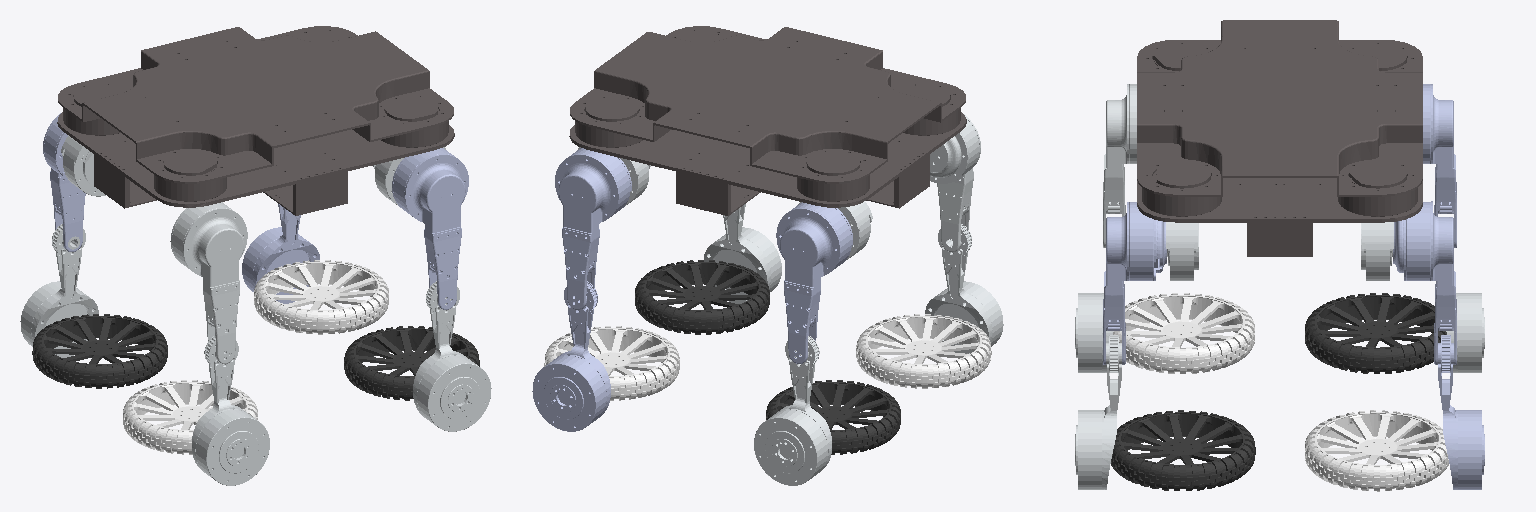
robot.urdf — leggedWheel_urdf_v2:
<?xml version="1.0" encoding="utf-8"?>
<!-- This URDF was automatically created by SolidWorks to URDF Exporter! Originally created by Stephen Brawner ([email redacted]) 
     Commit Version: 1.6.0-4-g7f85cfe  Build Version: 1.6.7995.38578
     For more information, please see http://wiki.ros.org/sw_urdf_exporter -->
<robot
  name="leggedWheel_urdf_v2">
  <link
    name="base_link">
    <inertial>
      <origin
        xyz="-0.00687441750629358 0.00016840998628298 0.0396430373516859"
        rpy="0 0 0" />
      <mass
        value="6.93631041360623" />
      <inertia
        ixx="0.0336459138280558"
        ixy="-8.7953687962115E-07"
        ixz="1.40887605515341E-06"
        iyy="0.054209835778547"
        iyz="-1.8869649634849E-06"
        izz="0.0868280053141142" />
    </inertial>
    <visual>
      <origin
        xyz="0 0 0"
        rpy="0 0 0" />
      <geometry>
        <mesh
          filename="package://leggedWheel_urdf_v2/meshes/base_link.STL" />
      </geometry>
      <material
        name="">
        <color
          rgba="0.43921568627451 0.411764705882353 0.411764705882353 1" />
      </material>
    </visual>
    <collision>
      <origin
        xyz="0 0 0"
        rpy="0 0 0" />
      <geometry>
        <mesh
          filename="package://leggedWheel_urdf_v2/meshes/base_link.STL" />
      </geometry>
    </collision>
  </link>
  <link
    name="left_front_abad">
    <inertial>
      <origin
        xyz="3.96909066446849E-05 -0.000913510036137183 0.0141455115549921"
        rpy="0 0 0" />
      <mass
        value="0.364781129600683" />
      <inertia
        ixx="0.000214071586798384"
        ixy="2.33639275270931E-07"
        ixz="-3.02901820553949E-07"
        iyy="0.000372454562010097"
        iyz="-2.19156777432853E-07"
        izz="0.000262021229869407" />
    </inertial>
    <visual>
      <origin
        xyz="0 0 0"
        rpy="0 0 0" />
      <geometry>
        <mesh
          filename="package://leggedWheel_urdf_v2/meshes/left_front_abad.STL" />
      </geometry>
      <material
        name="">
        <color
          rgba="0.898039215686275 0.917647058823529 0.929411764705882 1" />
      </material>
    </visual>
    <collision>
      <origin
        xyz="0 0 0"
        rpy="0 0 0" />
      <geometry>
        <mesh
          filename="package://leggedWheel_urdf_v2/meshes/left_front_abad.STL" />
      </geometry>
    </collision>
  </link>
  <joint
    name="left_front_abad"
    type="revolute">
    <origin
      xyz="0.169999999999999 0.120000000000005 -0.0510000000000034"
      rpy="0 0 0" />
    <parent
      link="base_link" />
    <child
      link="left_front_abad" />
    <axis
      xyz="0 0 1" />
    <limit
      lower="-3.14"
      upper="3.14"
      effort="10"
      velocity="275" />
  </joint>
  <link
    name="left_front_hip">
    <inertial>
      <origin
        xyz="0.000257190709675226 0.058783752059471 -0.0187965428097329"
        rpy="0 0 0" />
      <mass
        value="0.58601696675297" />
      <inertia
        ixx="0.000416527877754753"
        ixy="-3.62595971993563E-07"
        ixz="2.33666319471906E-06"
        iyy="0.000634287646205887"
        iyz="8.88036094220621E-06"
        izz="0.000299341608899424" />
    </inertial>
    <visual>
      <origin
        xyz="0 0 0"
        rpy="0 0 0" />
      <geometry>
        <mesh
          filename="package://leggedWheel_urdf_v2/meshes/left_front_hip.STL" />
      </geometry>
      <material
        name="">
        <color
          rgba="0.792156862745098 0.819607843137255 0.933333333333333 1" />
      </material>
    </visual>
    <collision>
      <origin
        xyz="0 0 0"
        rpy="0 0 0" />
      <geometry>
        <mesh
          filename="package://leggedWheel_urdf_v2/meshes/left_front_hip.STL" />
      </geometry>
    </collision>
  </link>
  <joint
    name="left_front_hip"
    type="revolute">
    <origin
      xyz="0 0 0"
      rpy="0 0 0" />
    <parent
      link="left_front_abad" />
    <child
      link="left_front_hip" />
    <axis
      xyz="0 1 0" />
    <limit
      lower="-3.14"
      upper="3.14"
      effort="10"
      velocity="275" />
  </joint>
  <link
    name="left_front_knee">
    <inertial>
      <origin
        xyz="7.76403467184217E-07 0.101384054323778 -0.105775251077242"
        rpy="0 0 0" />
      <mass
        value="0.441651824159081" />
      <inertia
        ixx="0.000398866453379467"
        ixy="1.00806584895321E-08"
        ixz="-1.08489290087052E-08"
        iyy="0.000612887101614769"
        iyz="2.01368193265162E-05"
        izz="0.000274530065386405" />
    </inertial>
    <visual>
      <origin
        xyz="0 0 0"
        rpy="0 0 0" />
      <geometry>
        <mesh
          filename="package://leggedWheel_urdf_v2/meshes/left_front_knee.STL" />
      </geometry>
      <material
        name="">
        <color
          rgba="0.792156862745098 0.819607843137255 0.933333333333333 1" />
      </material>
    </visual>
    <collision>
      <origin
        xyz="0 0 0"
        rpy="0 0 0" />
      <geometry>
        <mesh
          filename="package://leggedWheel_urdf_v2/meshes/left_front_knee.STL" />
      </geometry>
    </collision>
  </link>
  <joint
    name="left_front_knee"
    type="revolute">
    <origin
      xyz="0 0 -0.152"
      rpy="0 0 0" />
    <parent
      link="left_front_hip" />
    <child
      link="left_front_knee" />
    <axis
      xyz="0 1 0" />
    <limit
      lower="-3.14"
      upper="3.14"
      effort="10"
      velocity="275" />
  </joint>
  <link
    name="left_front_wheel">
    <inertial>
      <origin
        xyz="-3.30023919303812E-09 0.151096488682378 -2.85931647803217E-09"
        rpy="0 0 0" />
      <mass
        value="1.05505860671373" />
      <inertia
        ixx="0.00281347246586849"
        ixy="7.07747315785934E-11"
        ixz="5.90686008706454E-11"
        iyy="0.0050229074402748"
        iyz="-5.0044392124206E-11"
        izz="0.00281347246843757" />
    </inertial>
    <visual>
      <origin
        xyz="0 0 0"
        rpy="0 0 0" />
      <geometry>
        <mesh
          filename="package://leggedWheel_urdf_v2/meshes/left_front_wheel.STL" />
      </geometry>
      <material
        name="">
        <color
          rgba="1 1 1 1" />
      </material>
    </visual>
    <collision>
      <origin
        xyz="0 0 0"
        rpy="0 0 0" />
      <geometry>
        <mesh
          filename="package://leggedWheel_urdf_v2/meshes/left_front_wheel.STL" />
      </geometry>
    </collision>
  </link>
  <joint
    name="left_front_wheel"
    type="continuous">
    <origin
      xyz="0 0 -0.13"
      rpy="0 0 0" />
    <parent
      link="left_front_knee" />
    <child
      link="left_front_wheel" />
    <axis
      xyz="0 1 0" />
    <limit
      effort="10"
      velocity="400" />
  </joint>
  <link
    name="left_back_abad">
    <inertial>
      <origin
        xyz="3.96909066445184E-05 -0.000913510036137211 0.0141455115549919"
        rpy="0 0 0" />
      <mass
        value="0.364781129600681" />
      <inertia
        ixx="0.000214071586798384"
        ixy="2.33639275270672E-07"
        ixz="-3.0290182055397E-07"
        iyy="0.000372454562010097"
        iyz="-2.19156777432599E-07"
        izz="0.000262021229869406" />
    </inertial>
    <visual>
      <origin
        xyz="0 0 0"
        rpy="0 0 0" />
      <geometry>
        <mesh
          filename="package://leggedWheel_urdf_v2/meshes/left_back_abad.STL" />
      </geometry>
      <material
        name="">
        <color
          rgba="0.898039215686275 0.917647058823529 0.929411764705882 1" />
      </material>
    </visual>
    <collision>
      <origin
        xyz="0 0 0"
        rpy="0 0 0" />
      <geometry>
        <mesh
          filename="package://leggedWheel_urdf_v2/meshes/left_back_abad.STL" />
      </geometry>
    </collision>
  </link>
  <joint
    name="left_back_abad"
    type="revolute">
    <origin
      xyz="-0.17 0.12 -0.051"
      rpy="0 0 0" />
    <parent
      link="base_link" />
    <child
      link="left_back_abad" />
    <axis
      xyz="0 0 1" />
    <limit
      lower="-3.14"
      upper="3.14"
      effort="10"
      velocity="275" />
  </joint>
  <link
    name="left_back_hip">
    <inertial>
      <origin
        xyz="0.000257190709675503 0.0587837520594711 -0.018796542809733"
        rpy="0 0 0" />
      <mass
        value="0.586016966752973" />
      <inertia
        ixx="0.000416527877754754"
        ixy="-3.62595971993404E-07"
        ixz="2.33666319472172E-06"
        iyy="0.000634287646205885"
        iyz="8.88036094220618E-06"
        izz="0.000299341608899422" />
    </inertial>
    <visual>
      <origin
        xyz="0 0 0"
        rpy="0 0 0" />
      <geometry>
        <mesh
          filename="package://leggedWheel_urdf_v2/meshes/left_back_hip.STL" />
      </geometry>
      <material
        name="">
        <color
          rgba="0.792156862745098 0.819607843137255 0.933333333333333 1" />
      </material>
    </visual>
    <collision>
      <origin
        xyz="0 0 0"
        rpy="0 0 0" />
      <geometry>
        <mesh
          filename="package://leggedWheel_urdf_v2/meshes/left_back_hip.STL" />
      </geometry>
    </collision>
  </link>
  <joint
    name="left_back_hip"
    type="revolute">
    <origin
      xyz="0 0 0"
      rpy="0 0 0" />
    <parent
      link="left_back_abad" />
    <child
      link="left_back_hip" />
    <axis
      xyz="0 1 0" />
    <limit
      lower="-3.14"
      upper="3.14"
      effort="10"
      velocity="275" />
  </joint>
  <link
    name="left_back_knee">
    <inertial>
      <origin
        xyz="7.76403467406261E-07 0.101384054323778 -0.105775251077242"
        rpy="0 0 0" />
      <mass
        value="0.44165182415908" />
      <inertia
        ixx="0.000398866453379467"
        ixy="1.00806584895534E-08"
        ixz="-1.08489290083956E-08"
        iyy="0.000612887101614769"
        iyz="2.01368193265164E-05"
        izz="0.000274530065386405" />
    </inertial>
    <visual>
      <origin
        xyz="0 0 0"
        rpy="0 0 0" />
      <geometry>
        <mesh
          filename="package://leggedWheel_urdf_v2/meshes/left_back_knee.STL" />
      </geometry>
      <material
        name="">
        <color
          rgba="0.898039215686275 0.917647058823529 0.929411764705882 1" />
      </material>
    </visual>
    <collision>
      <origin
        xyz="0 0 0"
        rpy="0 0 0" />
      <geometry>
        <mesh
          filename="package://leggedWheel_urdf_v2/meshes/left_back_knee.STL" />
      </geometry>
    </collision>
  </link>
  <joint
    name="left_back_knee"
    type="revolute">
    <origin
      xyz="0 0 -0.152"
      rpy="0 0 0" />
    <parent
      link="left_back_hip" />
    <child
      link="left_back_knee" />
    <axis
      xyz="0 1 0" />
    <limit
      lower="-3.14"
      upper="3.14"
      effort="10"
      velocity="275" />
  </joint>
  <link
    name="left_back_wheel">
    <inertial>
      <origin
        xyz="-3.30023941508273E-09 0.151096488682378 -2.85931653354332E-09"
        rpy="0 0 0" />
      <mass
        value="1.05505860671376" />
      <inertia
        ixx="0.00281347246586855"
        ixy="7.07747302017895E-11"
        ixz="5.90686125944754E-11"
        iyy="0.00502290744027486"
        iyz="-5.00443946082781E-11"
        izz="0.00281347246843757" />
    </inertial>
    <visual>
      <origin
        xyz="0 0 0"
        rpy="0 0 0" />
      <geometry>
        <mesh
          filename="package://leggedWheel_urdf_v2/meshes/left_back_wheel.STL" />
      </geometry>
      <material
        name="">
        <color
          rgba="0.298039215686275 0.298039215686275 0.298039215686275 1" />
      </material>
    </visual>
    <collision>
      <origin
        xyz="0 0 0"
        rpy="0 0 0" />
      <geometry>
        <mesh
          filename="package://leggedWheel_urdf_v2/meshes/left_back_wheel.STL" />
      </geometry>
    </collision>
  </link>
  <joint
    name="left_back_wheel"
    type="continuous">
    <origin
      xyz="0 0 -0.13"
      rpy="0 0 0" />
    <parent
      link="left_back_knee" />
    <child
      link="left_back_wheel" />
    <axis
      xyz="0 1 0" />
    <limit
      effort="10"
      velocity="400" />
  </joint>
  <link
    name="right_front_abad">
    <inertial>
      <origin
        xyz="3.96909066446849E-05 0.00091351003613778 -0.014145511554992"
        rpy="0 0 0" />
      <mass
        value="0.364781129600681" />
      <inertia
        ixx="0.000214071586798384"
        ixy="-2.3363927527197E-07"
        ixz="3.02901820553882E-07"
        iyy="0.000372454562010096"
        iyz="-2.19156777427902E-07"
        izz="0.000262021229869406" />
    </inertial>
    <visual>
      <origin
        xyz="0 0 0"
        rpy="0 0 0" />
      <geometry>
        <mesh
          filename="package://leggedWheel_urdf_v2/meshes/right_front_abad.STL" />
      </geometry>
      <material
        name="">
        <color
          rgba="0.898039215686275 0.917647058823529 0.929411764705882 1" />
      </material>
    </visual>
    <collision>
      <origin
        xyz="0 0 0"
        rpy="0 0 0" />
      <geometry>
        <mesh
          filename="package://leggedWheel_urdf_v2/meshes/right_front_abad.STL" />
      </geometry>
    </collision>
  </link>
  <joint
    name="right_front_abad"
    type="revolute">
    <origin
      xyz="0.17 -0.12 -0.051"
      rpy="-3.1416 0 3.1416" />
    <parent
      link="base_link" />
    <child
      link="right_front_abad" />
    <axis
      xyz="0 0 -1" />
    <limit
      lower="-3.14"
      upper="3.14"
      effort="10"
      velocity="275" />
  </joint>
  <link
    name="right_front_hip">
    <inertial>
      <origin
        xyz="0.000257190709172184 -0.0587837520583021 0.0187965428098051"
        rpy="0 0 0" />
      <mass
        value="0.586016966753359" />
      <inertia
        ixx="0.000416527877758501"
        ixy="3.62595972015779E-07"
        ixz="-2.33666318250852E-06"
        iyy="0.000634287646209621"
        iyz="8.88036093474357E-06"
        izz="0.000299341608899457" />
    </inertial>
    <visual>
      <origin
        xyz="0 0 0"
        rpy="0 0 0" />
      <geometry>
        <mesh
          filename="package://leggedWheel_urdf_v2/meshes/right_front_hip.STL" />
      </geometry>
      <material
        name="">
        <color
          rgba="0.792156862745098 0.819607843137255 0.933333333333333 1" />
      </material>
    </visual>
    <collision>
      <origin
        xyz="0 0 0"
        rpy="0 0 0" />
      <geometry>
        <mesh
          filename="package://leggedWheel_urdf_v2/meshes/right_front_hip.STL" />
      </geometry>
    </collision>
  </link>
  <joint
    name="right_front_hip"
    type="revolute">
    <origin
      xyz="0 0 0"
      rpy="0 0 0" />
    <parent
      link="right_front_abad" />
    <child
      link="right_front_hip" />
    <axis
      xyz="0 -1 0" />
    <limit
      lower="-3.14"
      upper="3.14"
      effort="10"
      velocity="275" />
  </joint>
  <link
    name="right_front_knee">
    <inertial>
      <origin
        xyz="-7.76403468072395E-07 -0.101384054323783 -0.105775251077238"
        rpy="0 0 0" />
      <mass
        value="0.441651824159079" />
      <inertia
        ixx="0.000398866453379465"
        ixy="1.00806584911063E-08"
        ixz="1.08489290087404E-08"
        iyy="0.000612887101614764"
        iyz="-2.01368193265306E-05"
        izz="0.000274530065386405" />
    </inertial>
    <visual>
      <origin
        xyz="0 0 0"
        rpy="0 0 0" />
      <geometry>
        <mesh
          filename="package://leggedWheel_urdf_v2/meshes/right_front_knee.STL" />
      </geometry>
      <material
        name="">
        <color
          rgba="0.898039215686275 0.917647058823529 0.929411764705882 1" />
      </material>
    </visual>
    <collision>
      <origin
        xyz="0 0 0"
        rpy="0 0 0" />
      <geometry>
        <mesh
          filename="package://leggedWheel_urdf_v2/meshes/right_front_knee.STL" />
      </geometry>
    </collision>
  </link>
  <joint
    name="right_front_knee"
    type="revolute">
    <origin
      xyz="0 0 0.152"
      rpy="3.14159265358979 0 3.14159265358979" />
    <parent
      link="right_front_hip" />
    <child
      link="right_front_knee" />
    <axis
      xyz="0 -1 0" />
    <limit
      lower="-3.14"
      upper="3.14"
      effort="10"
      velocity="275" />
  </joint>
  <link
    name="right_front_wheel">
    <inertial>
      <origin
        xyz="3.30023852690431E-09 -0.151096488682378 -2.8593097334273E-09"
        rpy="0 0 0" />
      <mass
        value="1.05505860671378" />
      <inertia
        ixx="0.00281347246586857"
        ixy="7.07747492314502E-11"
        ixz="-5.90686222186615E-11"
        iyy="0.0050229074402749"
        iyz="5.00443036099297E-11"
        izz="0.00281347246843761" />
    </inertial>
    <visual>
      <origin
        xyz="0 0 0"
        rpy="0 0 0" />
      <geometry>
        <mesh
          filename="package://leggedWheel_urdf_v2/meshes/right_front_wheel.STL" />
      </geometry>
      <material
        name="">
        <color
          rgba="0.298039215686275 0.298039215686275 0.298039215686275 1" />
      </material>
    </visual>
    <collision>
      <origin
        xyz="0 0 0"
        rpy="0 0 0" />
      <geometry>
        <mesh
          filename="package://leggedWheel_urdf_v2/meshes/right_front_wheel.STL" />
      </geometry>
    </collision>
  </link>
  <joint
    name="right_front_wheel"
    type="continuous">
    <origin
      xyz="0 0 -0.13"
      rpy="0 0 0" />
    <parent
      link="right_front_knee" />
    <child
      link="right_front_wheel" />
    <axis
      xyz="0 -1 0" />
    <limit
      effort="10"
      velocity="400" />
  </joint>
  <link
    name="right_back_abad">
    <inertial>
      <origin
        xyz="-3.96909066446294E-05 0.000913510036137488 0.014145511554992"
        rpy="0 0 0" />
      <mass
        value="0.364781129600681" />
      <inertia
        ixx="0.000214071586798384"
        ixy="2.33639275271316E-07"
        ixz="3.02901820553864E-07"
        iyy="0.000372454562010096"
        iyz="2.19156777430363E-07"
        izz="0.000262021229869406" />
    </inertial>
    <visual>
      <origin
        xyz="0 0 0"
        rpy="0 0 0" />
      <geometry>
        <mesh
          filename="package://leggedWheel_urdf_v2/meshes/right_back_abad.STL" />
      </geometry>
      <material
        name="">
        <color
          rgba="0.792156862745098 0.819607843137255 0.933333333333333 1" />
      </material>
    </visual>
    <collision>
      <origin
        xyz="0 0 0"
        rpy="0 0 0" />
      <geometry>
        <mesh
          filename="package://leggedWheel_urdf_v2/meshes/right_back_abad.STL" />
      </geometry>
    </collision>
  </link>
  <joint
    name="right_back_abad"
    type="revolute">
    <origin
      xyz="-0.17 -0.12 -0.051"
      rpy="0 0 0" />
    <parent
      link="base_link" />
    <child
      link="right_back_abad" />
    <axis
      xyz="0 0 1" />
    <limit
      lower="-3.14"
      upper="3.14"
      effort="10"
      velocity="275" />
  </joint>
  <link
    name="right_back_hip">
    <inertial>
      <origin
        xyz="-0.000257190709438027 -0.0587837520578504 -0.018796542804722"
        rpy="0 0 0" />
      <mass
        value="0.586016966727991" />
      <inertia
        ixx="0.000416527877718038"
        ixy="-3.62595971351177E-07"
        ixz="-2.33666318881681E-06"
        iyy="0.000634287646168458"
        iyz="-8.8803609386424E-06"
        izz="0.000299341608898524" />
    </inertial>
    <visual>
      <origin
        xyz="0 0 0"
        rpy="0 0 0" />
      <geometry>
        <mesh
          filename="package://leggedWheel_urdf_v2/meshes/right_back_hip.STL" />
      </geometry>
      <material
        name="">
        <color
          rgba="0.898039215686275 0.917647058823529 0.929411764705882 1" />
      </material>
    </visual>
    <collision>
      <origin
        xyz="0 0 0"
        rpy="0 0 0" />
      <geometry>
        <mesh
          filename="package://leggedWheel_urdf_v2/meshes/right_back_hip.STL" />
      </geometry>
    </collision>
  </link>
  <joint
    name="right_back_hip"
    type="revolute">
    <origin
      xyz="0 0 0"
      rpy="0 0 0" />
    <parent
      link="right_back_abad" />
    <child
      link="right_back_hip" />
    <axis
      xyz="0 -1 0" />
    <limit
      lower="-3.14"
      upper="3.14"
      effort="10"
      velocity="275" />
  </joint>
  <link
    name="right_back_knee">
    <inertial>
      <origin
        xyz="-7.76403467739328E-07 -0.101384054323781 -0.10577525107724"
        rpy="0 0 0" />
      <mass
        value="0.441651824159079" />
      <inertia
        ixx="0.000398866453379465"
        ixy="1.00806584902623E-08"
        ixz="1.08489290086287E-08"
        iyy="0.000612887101614765"
        iyz="-2.01368193265234E-05"
        izz="0.000274530065386405" />
    </inertial>
    <visual>
      <origin
        xyz="0 0 0"
        rpy="0 0 0" />
      <geometry>
        <mesh
          filename="package://leggedWheel_urdf_v2/meshes/right_back_knee.STL" />
      </geometry>
      <material
        name="">
        <color
          rgba="0.898039215686275 0.917647058823529 0.929411764705882 1" />
      </material>
    </visual>
    <collision>
      <origin
        xyz="0 0 0"
        rpy="0 0 0" />
      <geometry>
        <mesh
          filename="package://leggedWheel_urdf_v2/meshes/right_back_knee.STL" />
      </geometry>
    </collision>
  </link>
  <joint
    name="right_back_knee"
    type="revolute">
    <origin
      xyz="0 0 -0.152"
      rpy="0 0 0" />
    <parent
      link="right_back_hip" />
    <child
      link="right_back_knee" />
    <axis
      xyz="0 -1 0" />
    <limit
      lower="-3.14"
      upper="3.14"
      effort="10"
      velocity="275" />
  </joint>
  <link
    name="right_back_wheel">
    <inertial>
      <origin
        xyz="3.30023913752697E-09 -0.151096488682378 -2.85931289756292E-09"
        rpy="0 0 0" />
      <mass
        value="1.05505860671377" />
      <inertia
        ixx="0.00281347246586856"
        ixy="7.07747388686065E-11"
        ixz="-5.90686187639592E-11"
        iyy="0.00502290744027488"
        iyz="5.00443495308805E-11"
        izz="0.00281347246843759" />
    </inertial>
    <visual>
      <origin
        xyz="0 0 0"
        rpy="0 0 0" />
      <geometry>
        <mesh
          filename="package://leggedWheel_urdf_v2/meshes/right_back_wheel.STL" />
      </geometry>
      <material
        name="">
        <color
          rgba="1 1 1 1" />
      </material>
    </visual>
    <collision>
      <origin
        xyz="0 0 0"
        rpy="0 0 0" />
      <geometry>
        <mesh
          filename="package://leggedWheel_urdf_v2/meshes/right_back_wheel.STL" />
      </geometry>
    </collision>
  </link>
  <joint
    name="right_back_wheel"
    type="continuous">
    <origin
      xyz="0 0 -0.13"
      rpy="0 0 0" />
    <parent
      link="right_back_knee" />
    <child
      link="right_back_wheel" />
    <axis
      xyz="0 -1 0" />
    <limit
      effort="10"
      velocity="400" />
  </joint>
</robot>

--- Facts derived from the render (not from the file) ---
3 views of the same robot in one strip: view 1: azimuth 30°, elevation 25°; view 2: azimuth 150°, elevation 25°; view 3: azimuth 270°, elevation 25° (orthographic).
Robot: leggedWheel_urdf_v2 — 17 links, 16 joints (12 revolute, 4 continuous); root link base_link; default pose: all joints at 0.
Visible links, largest first — view 1: base_link, left_back_wheel, left_front_wheel, right_back_hip, right_front_hip, right_front_knee, right_back_knee, right_back_wheel, right_front_wheel, left_back_knee, left_front_knee, left_back_hip (+2 smaller); view 2: base_link, right_back_wheel, right_front_wheel, left_back_hip, left_front_hip, left_front_knee, left_back_knee, left_front_wheel, left_back_wheel, right_back_hip, right_back_knee, right_front_knee (+2 smaller); view 3: base_link, left_front_wheel, right_front_wheel, right_back_wheel, left_back_wheel, left_front_hip, right_front_hip, left_front_knee, right_front_knee, left_back_hip, right_back_hip, left_back_knee (+3 smaller).
Link boxes in pixels (<box>): base_link: <box>57,26,454,215</box>; left_back_wheel: <box>32,314,167,388</box>; left_front_wheel: <box>254,260,388,334</box>; right_back_hip: <box>170,202,247,363</box>; right_front_hip: <box>392,148,468,309</box>; right_front_knee: <box>413,281,491,431</box>; right_back_knee: <box>192,336,269,485</box>; right_back_wheel: <box>123,380,257,454</box>; right_front_wheel: <box>344,326,479,400</box>; left_back_knee: <box>20,224,98,357</box>; left_front_knee: <box>242,204,319,303</box>; left_back_hip: <box>43,113,85,251</box>; base_link: <box>569,26,966,215</box>; right_back_wheel: <box>856,314,991,388</box>; right_front_wheel: <box>635,260,769,334</box>; left_back_hip: <box>776,202,852,363</box>; left_front_hip: <box>555,148,631,309</box>; left_front_knee: <box>532,281,610,431</box>; left_back_knee: <box>754,336,831,485</box>; left_front_wheel: <box>544,326,679,400</box>; left_back_wheel: <box>766,380,900,454</box>; right_back_hip: <box>930,114,980,251</box>; right_back_knee: <box>925,224,1003,353</box>; right_front_knee: <box>704,204,781,303</box>; base_link: <box>1137,20,1422,256</box>; left_front_wheel: <box>1305,410,1448,491</box>; right_front_wheel: <box>1111,410,1255,490</box>; right_back_wheel: <box>1113,293,1254,373</box>; left_back_wheel: <box>1305,293,1446,373</box>; left_front_hip: <box>1393,201,1456,364</box>; right_front_hip: <box>1103,202,1166,364</box>; left_front_knee: <box>1438,335,1484,489</box>; right_front_knee: <box>1075,335,1121,489</box>; left_back_hip: <box>1423,84,1456,247</box>; right_back_hip: <box>1103,84,1136,247</box>; left_back_knee: <box>1446,293,1484,372</box>.
Bounding box of the posed robot: 0.52 × 0.5015 × 0.4454 m (x, y, z).
Meshes: 17 distinct files referenced, 16 mesh visuals loaded (16 binary STL); not drawn: 1 (reference not matched to a file when rendering).
